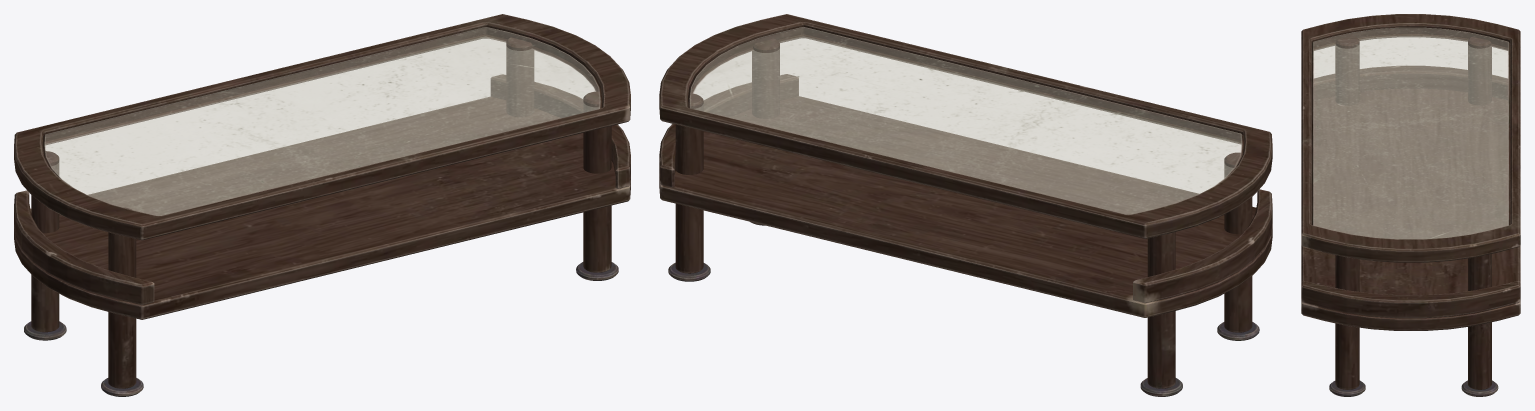
File: coffee_table_wooden_m31odyr.glb
3 views of the same model, side by side, from view 1: azimuth 30°, elevation 25°; view 2: azimuth 150°, elevation 25°; view 3: azimuth 270°, elevation 25° (orthographic). The views are drawn at different scales.
Parts seen in each view (by area): view 1: pCube10_lambert1_0; view 2: pCube10_lambert1_0; view 3: pCube10_lambert1_0.
Boxes of the visible parts, x1,y1,x2,y2 form: pCube10_lambert1_0: (14,14,630,396); pCube10_lambert1_0: (659,14,1272,396); pCube10_lambert1_0: (1301,14,1520,396).
Bounding box in the file's own units: 6.08 × 1.9 × 2.38.
1 material, 1 textured.
